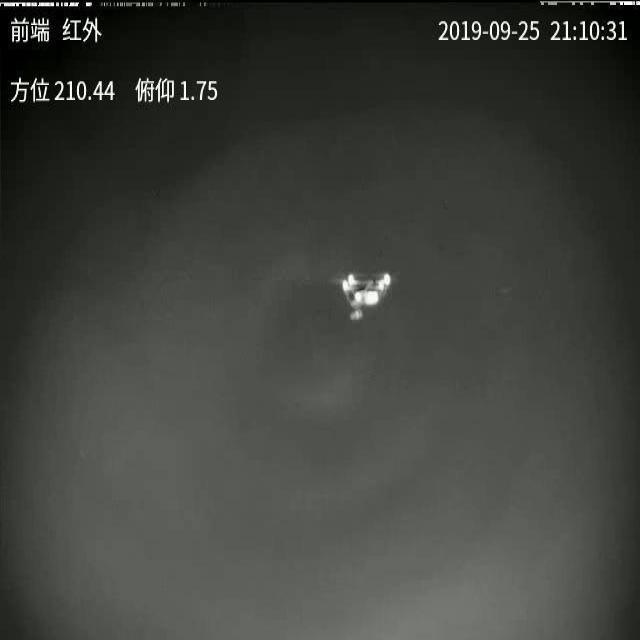drone: (331, 268, 396, 325)
